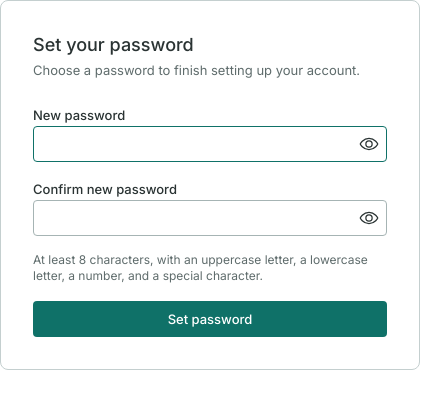
Scenario: SetPasswordForm › refuses a mismatched confirmation
The image size is (437, 402).
Type "ValidPass1!" into the password field labelled "New password" at [210, 144], box [34,127,386,161]
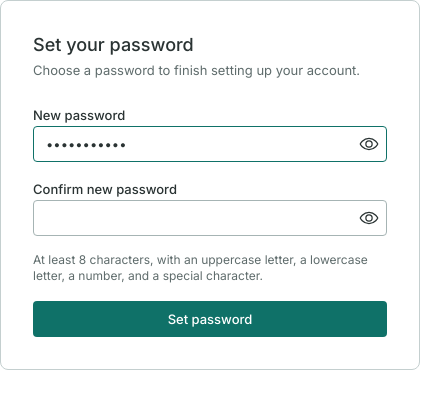
Type "ValidPass2!" into the password field labelled "Confirm new password" at [210, 218], box [34,200,386,234]
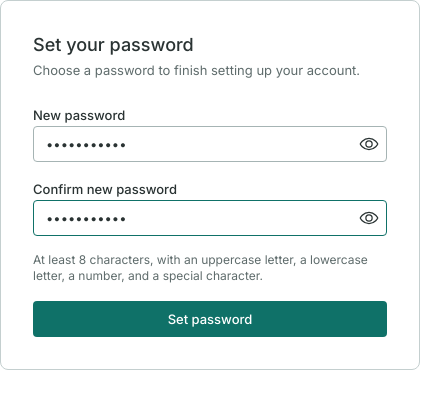
Click the button "Set password" at [210, 319], box [33,301,387,337]
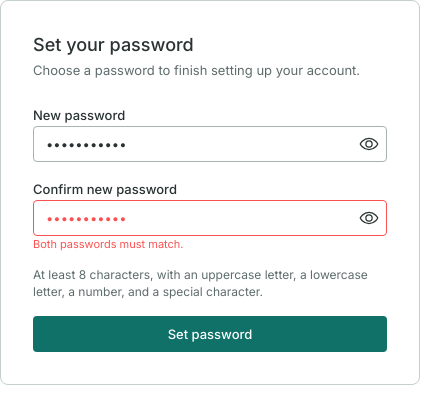
Result: the text "Both passwords must match." is shown at [33,236,184,250]
